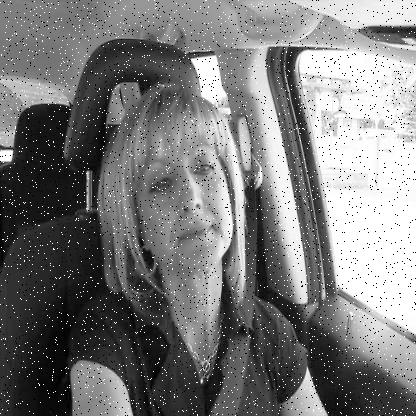seatbelt: (115, 53, 308, 416)
